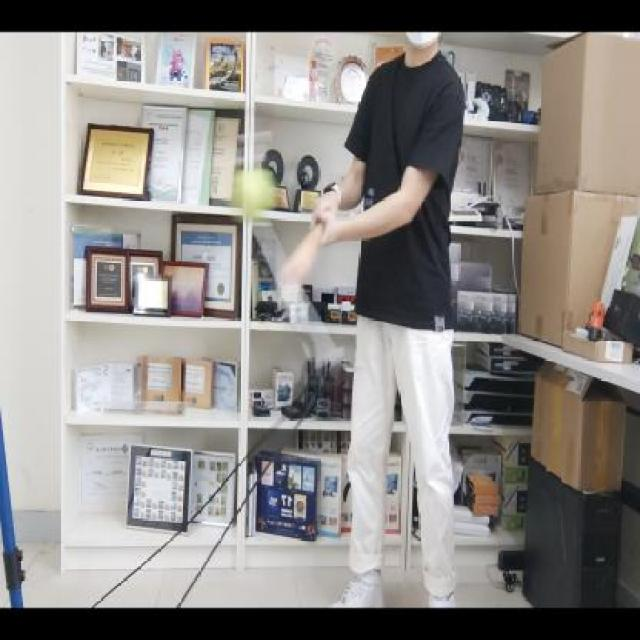baseball: (226, 168, 279, 226)
